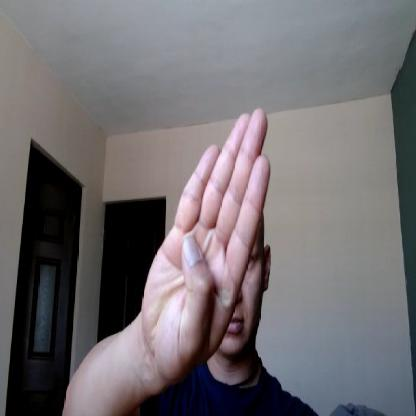B: (142, 105, 271, 383)
